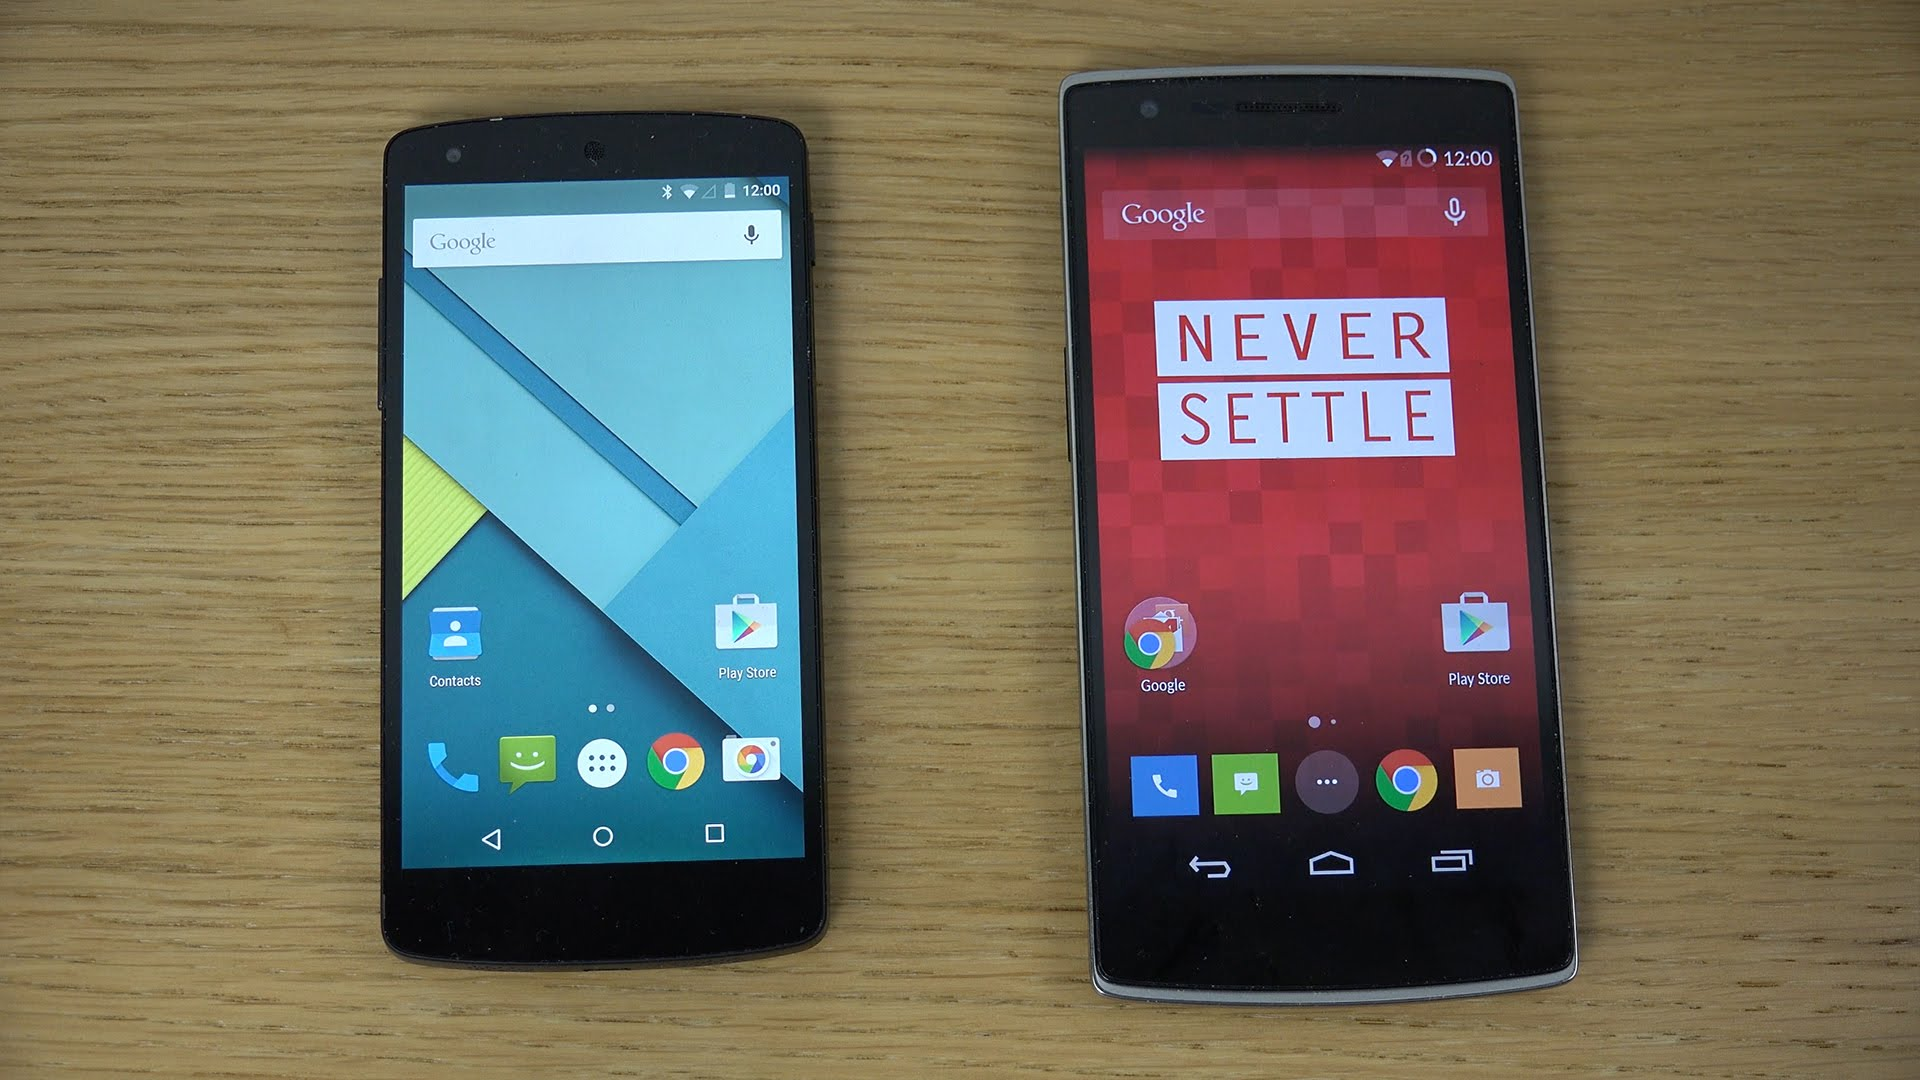smartphone: (1059, 63, 1581, 1007), (376, 108, 833, 976)
